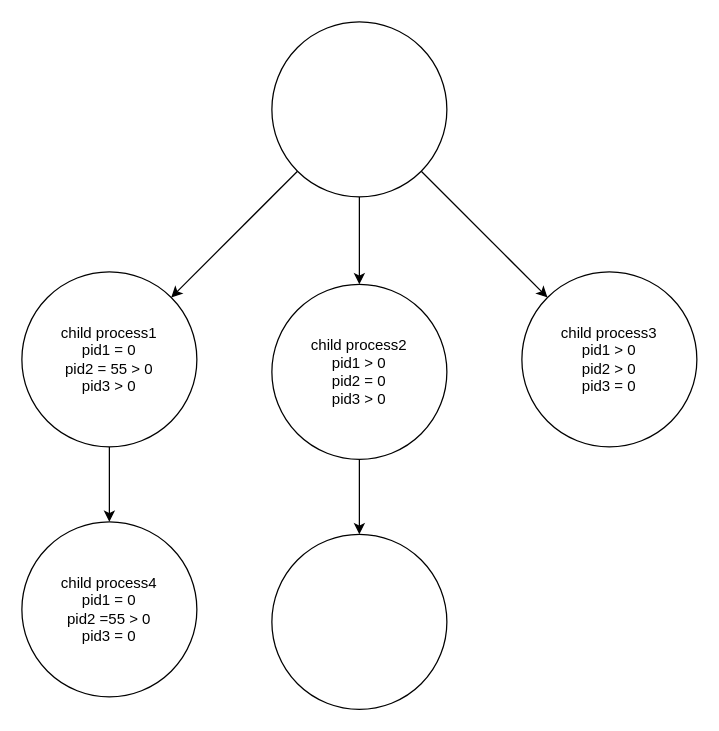
Some shapes in this 719 by 731 pixel diagram are drawn without their labels. Each missing label, with the centre of its shape:
child process5 pid1 > 0 pid2 = 0 pid3 = 0: [359,621]
main process pid1 > 0 pid2 > 0 pid3 > 0: [359,109]
